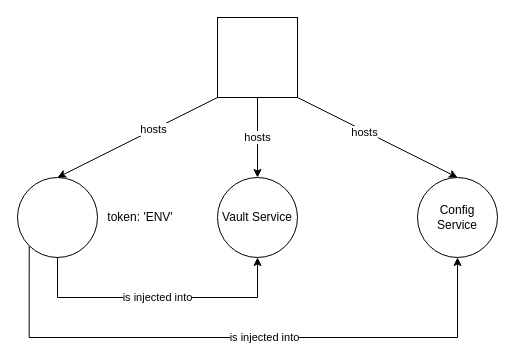
Image size: 515x363. Some labels were removed from this diagram. Here are the shapes that lost their labels. From the top down, the centre of each, then its label:
the point at 257,57: Config Module
the point at 57,217: Env Provider
